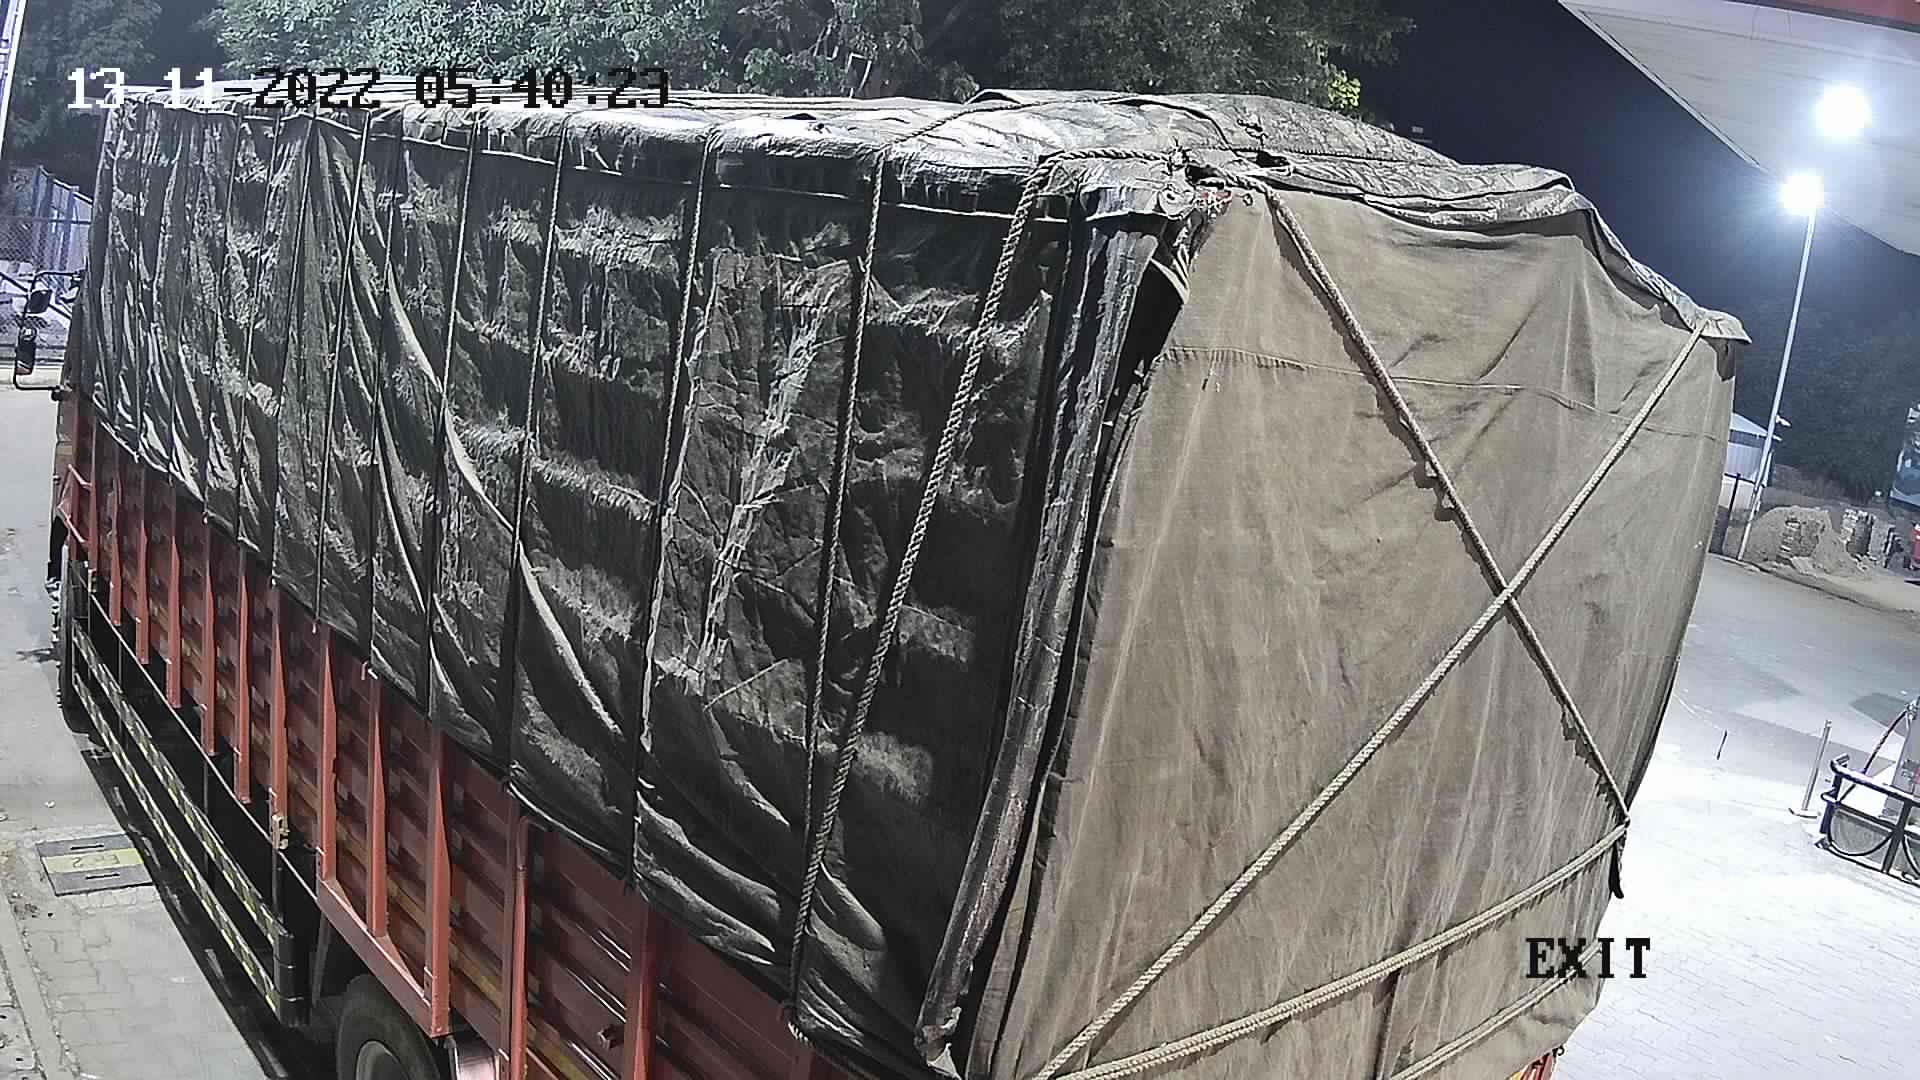HMV: (0, 51, 1776, 1076)
